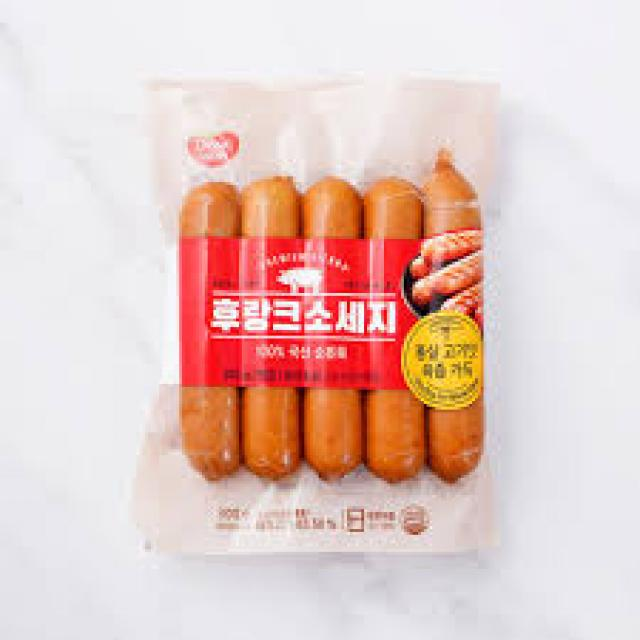sausage: (142, 108, 489, 521)
